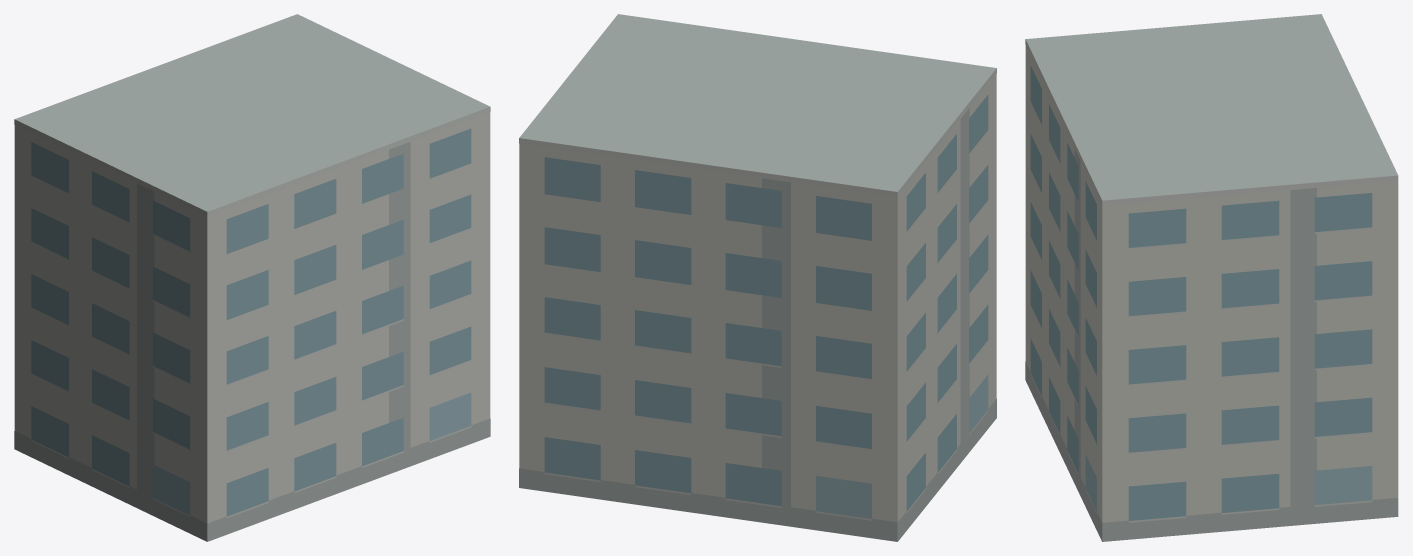
File: residential-83756886-d00d-47ab-bbf0-db32510fbb14.glb
The picture shows the model from 3 angles, left to right: view 1: azimuth 30°, elevation 25°; view 2: azimuth 150°, elevation 25°; view 3: azimuth 270°, elevation 25°; orthographic projection. The views are drawn at different scales.
Parts seen in each view (by area): view 1: residential-83756886-d00d-47ab-bbf0-db32510fbb14.tmp; view 2: residential-83756886-d00d-47ab-bbf0-db32510fbb14.tmp; view 3: residential-83756886-d00d-47ab-bbf0-db32510fbb14.tmp.
Part boxes in pixels (<box>): residential-83756886-d00d-47ab-bbf0-db32510fbb14.tmp: <box>14,14,490,541</box>; residential-83756886-d00d-47ab-bbf0-db32510fbb14.tmp: <box>519,14,996,541</box>; residential-83756886-d00d-47ab-bbf0-db32510fbb14.tmp: <box>1025,14,1398,541</box>.
Bounding box in the file's own units: 17.89 × 15.25 × 15.11.
